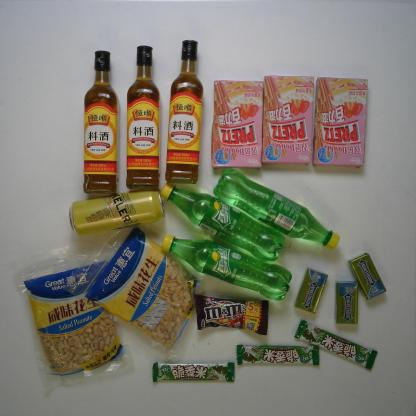Alcohol: (66, 185, 167, 235)
Chocolate: (292, 319, 379, 371), (194, 293, 271, 336), (234, 342, 321, 366), (152, 362, 238, 382)
Dessert: (312, 76, 369, 170), (260, 73, 315, 167), (210, 79, 266, 169)
Dried Fruit: (8, 238, 156, 405), (65, 221, 221, 357)
Drink: (212, 167, 342, 251), (159, 183, 287, 263), (160, 234, 292, 304)
Gum: (349, 252, 388, 301), (296, 266, 330, 315), (332, 279, 359, 325)
Seasoner: (164, 39, 204, 183), (124, 44, 162, 189), (82, 49, 119, 195)
